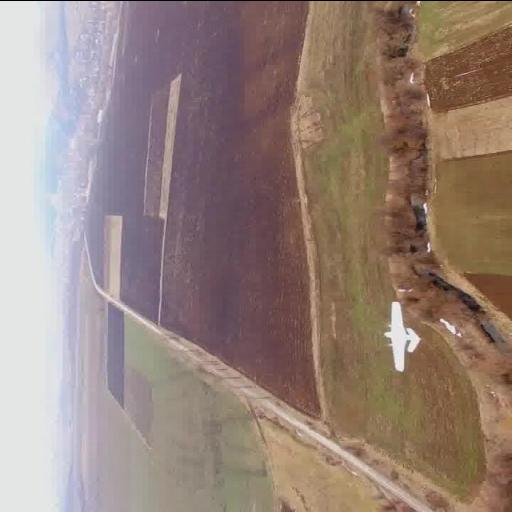uav: (378, 299, 438, 378)
